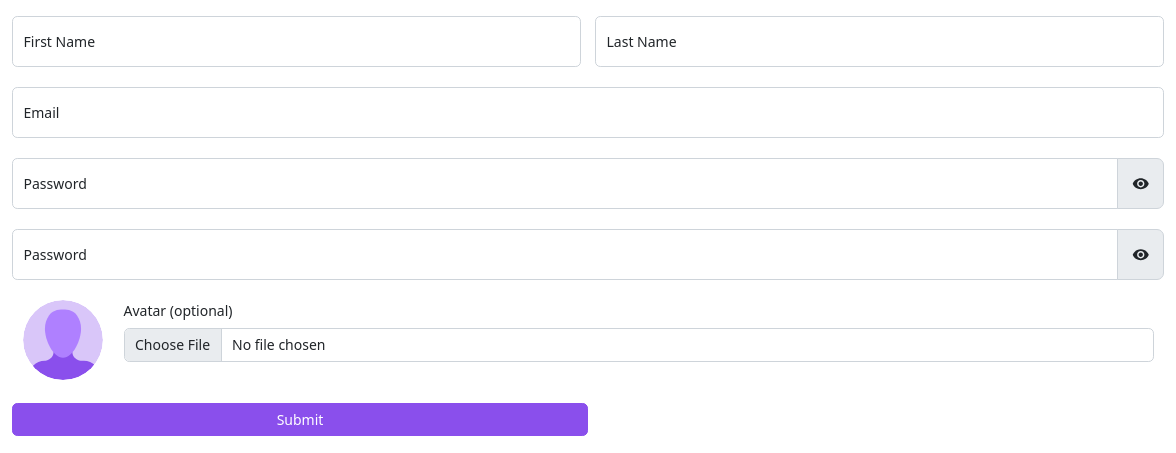
it: submit button should be disabled when full form is submitted
Type "Bob" into the field with placeholder "First Name" at (296, 42), box [12,16,581,67]
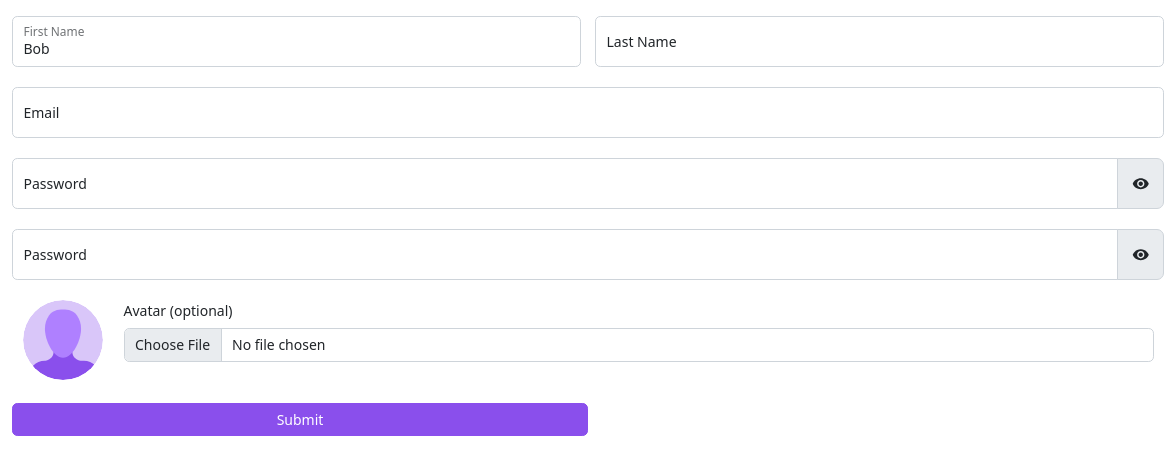
Type "Tester" into the field with placeholder "Last Name" at (880, 42), box [595,16,1164,67]
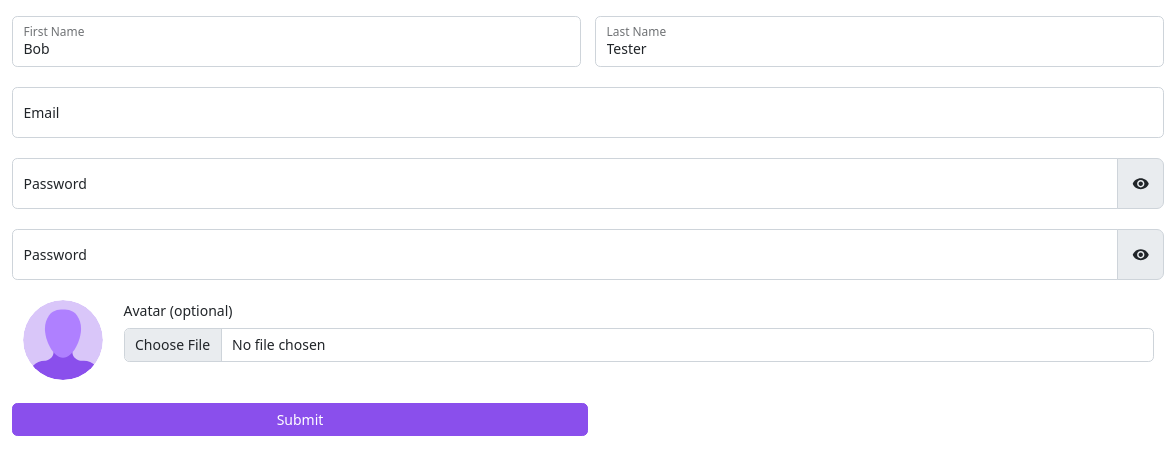
Type "bob@test.com" into the field with placeholder "Email" at (588, 112), box [12,87,1164,138]
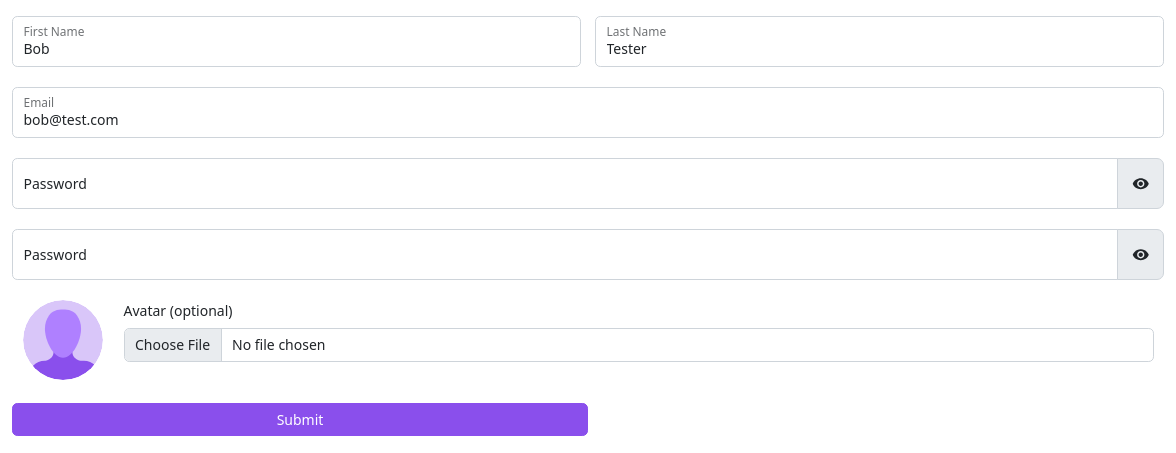
Type "password123" into the 1st password field with placeholder "Password" at (565, 184), box [12,158,1118,209]
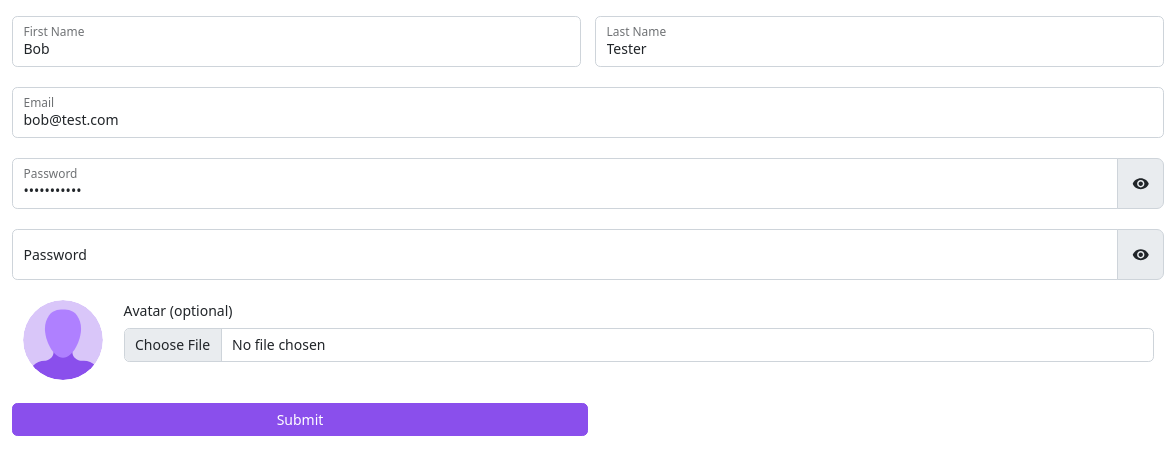
Type "password123" into the password field with placeholder "Password" at (565, 254), box [12,229,1118,280]
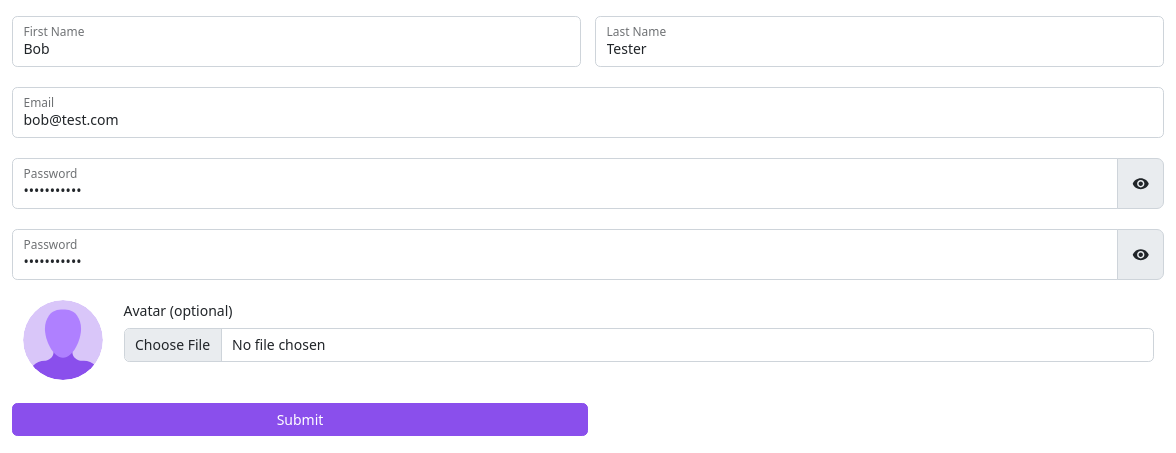
Submit the form with test id "form"
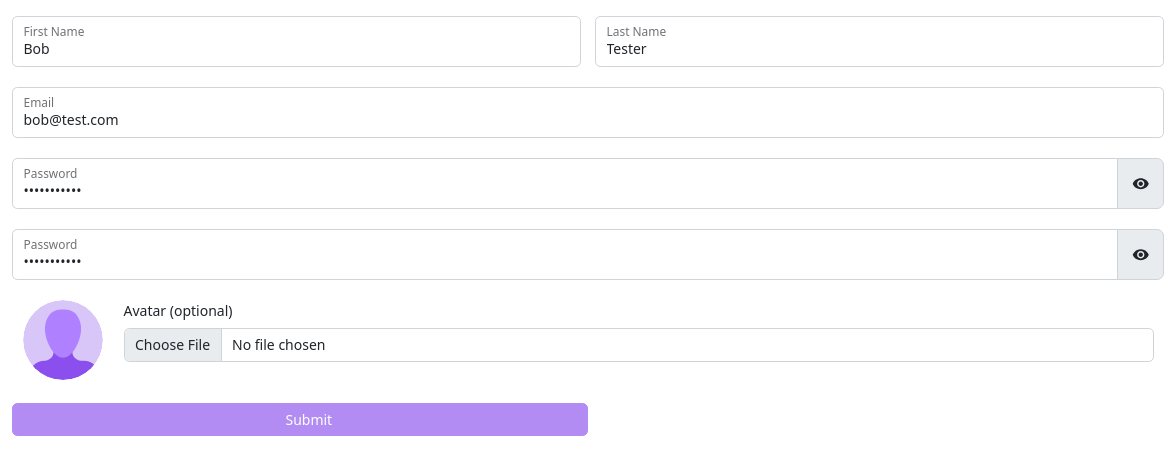
Result: the button "Submit" is disabled at [12,402,588,436]
